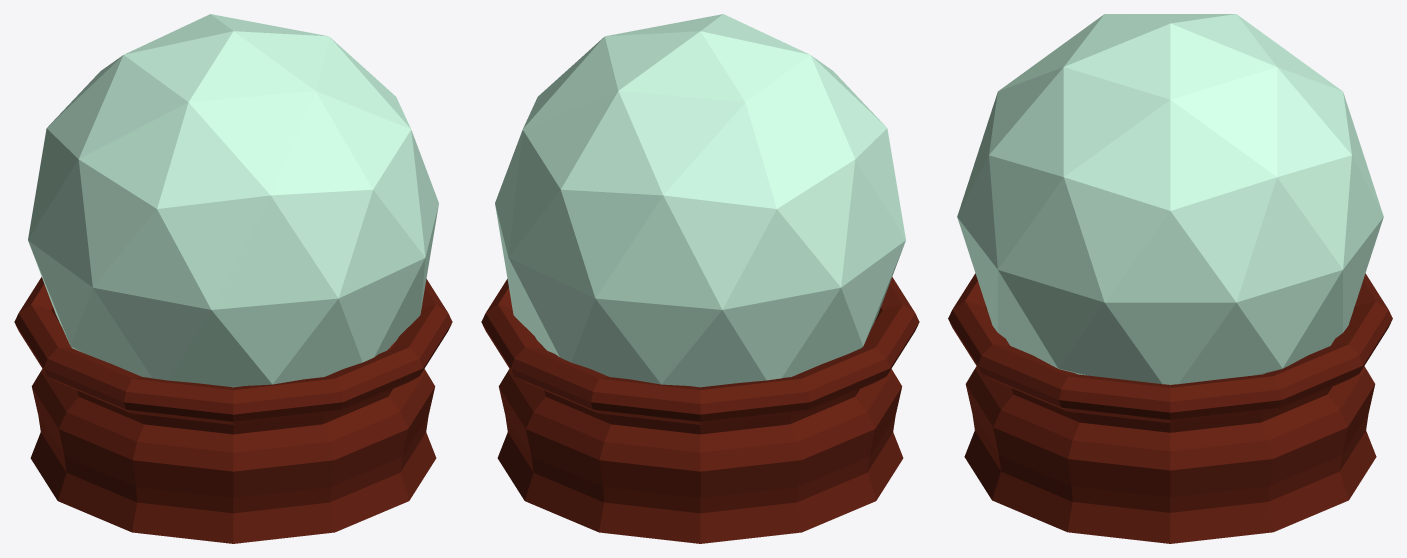
The model's file is baseandbulb.dae.
The picture shows the model from 3 angles, left to right: view 1: azimuth 30°, elevation 25°; view 2: azimuth 150°, elevation 25°; view 3: azimuth 270°, elevation 25°; orthographic projection.
Parts seen in each view (by area): view 1: globe, base; view 2: globe, base; view 3: globe, base.
Part boxes in pixels (x1,y1,x2,y2): globe: (28, 14, 438, 387); base: (14, 277, 452, 543); globe: (495, 14, 905, 387); base: (481, 277, 919, 543); globe: (957, 14, 1383, 384); base: (948, 273, 1392, 543).
Size of what is drawn, in the model's own units: 2.09 by 2.09 by 2.28.
